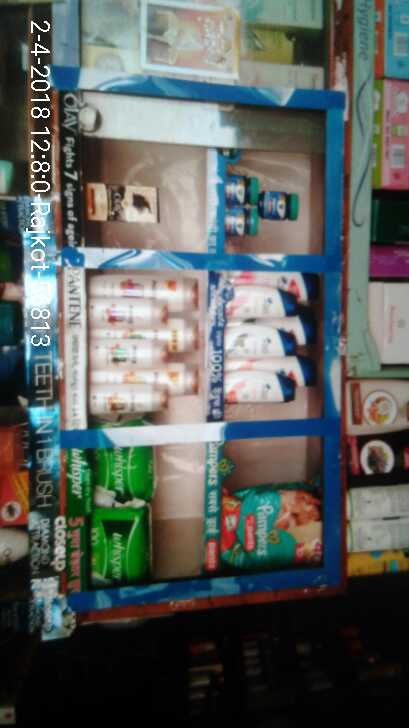vicks: (225, 174, 303, 238)
